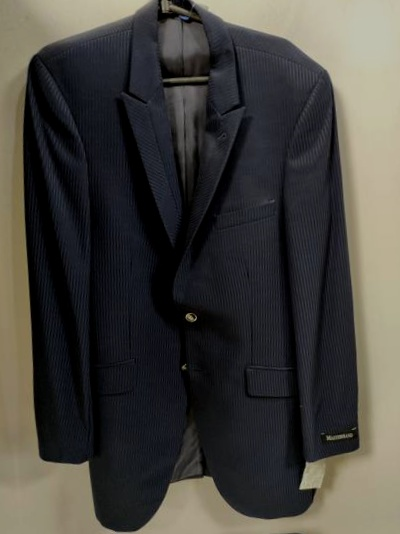Blazer: (0, 0, 385, 534), (392, 0, 400, 508), (38, 524, 400, 534), (0, 27, 7, 534)
